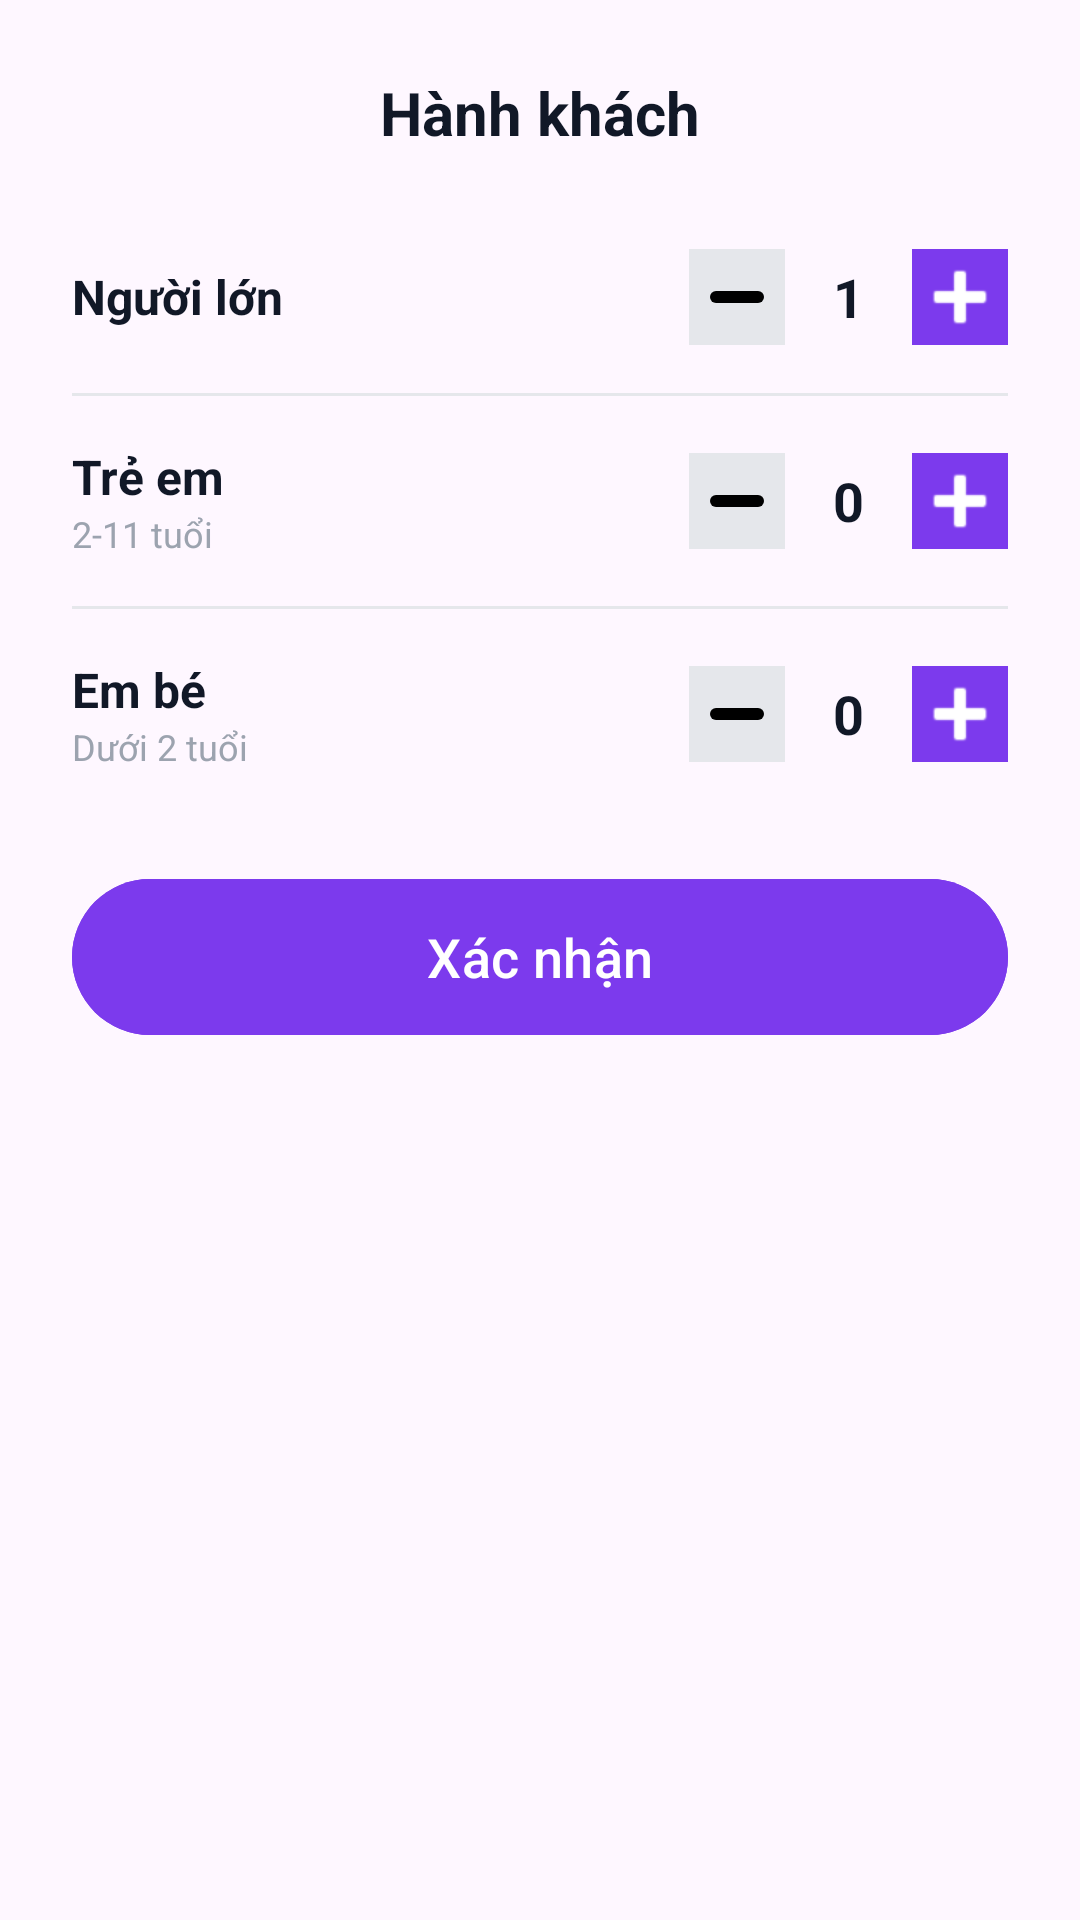

Locate icon controls on the screen. Image size 1080 x 1920, boxes as box=[x1, y1, x2, y2].
add: box=[912, 249, 1008, 345], box=[912, 453, 1008, 549], box=[912, 666, 1008, 762]
minus: box=[689, 249, 785, 345], box=[689, 453, 785, 549], box=[689, 666, 785, 762]
